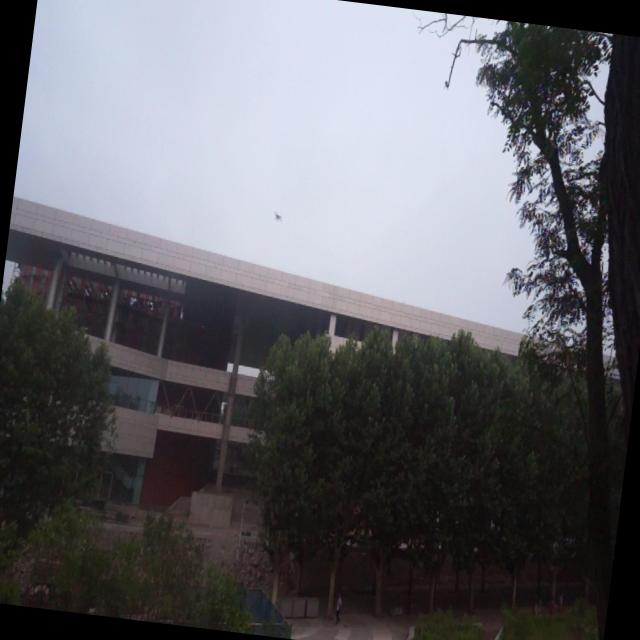drone: (270, 207, 284, 224)
